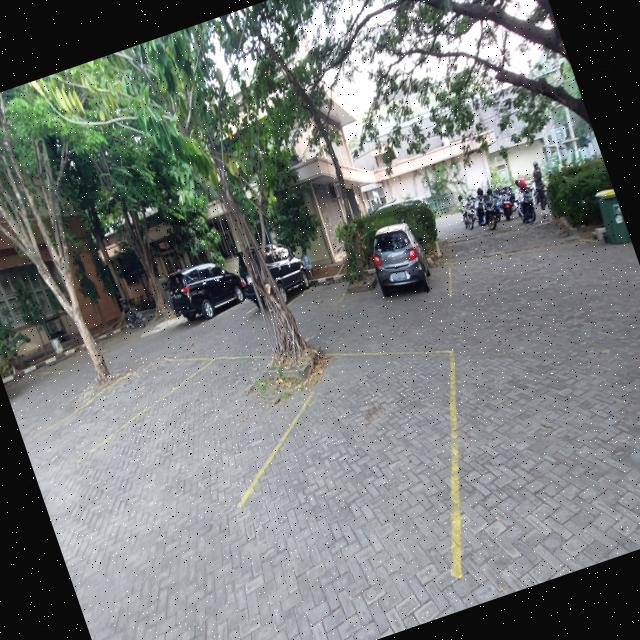empty: (237, 351, 459, 569), (88, 355, 272, 482), (38, 357, 215, 454), (285, 280, 352, 308), (218, 300, 255, 314)
occupied: (362, 223, 450, 310), (236, 244, 311, 313), (166, 261, 245, 326)
